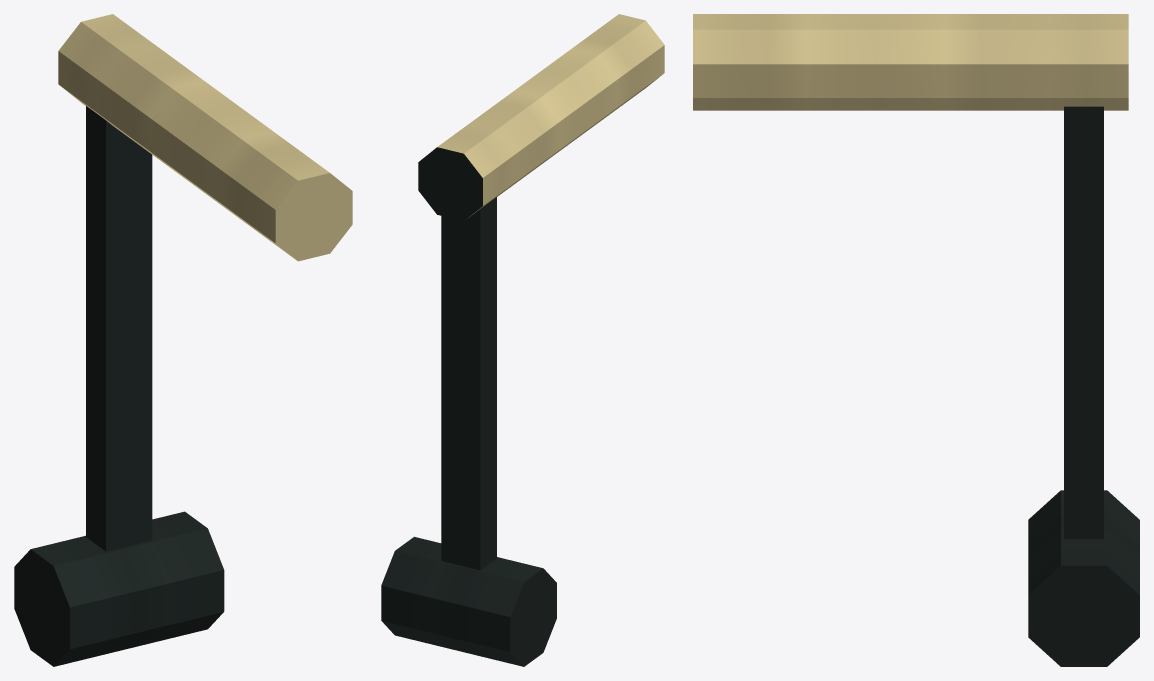
The model's file is SM_LabPanel_Lever_8x20x30.fbx.
3 views of the same model, side by side, from view 1: azimuth 30°, elevation 25°; view 2: azimuth 150°, elevation 25°; view 3: azimuth 270°, elevation 25° (orthographic). The views are drawn at different scales.
Parts seen in each view (by area): view 1: SM_LabPanel_Lever_8x20x30.001; view 2: SM_LabPanel_Lever_8x20x30.001; view 3: SM_LabPanel_Lever_8x20x30.001.
Boxes of the visible parts, box(x1,y1,x2,y2) form: SM_LabPanel_Lever_8x20x30.001: box(14, 14, 352, 666); SM_LabPanel_Lever_8x20x30.001: box(381, 14, 664, 666); SM_LabPanel_Lever_8x20x30.001: box(693, 14, 1139, 666).
Bounding box in the file's own units: 0.08 × 0.3 × 0.2.
